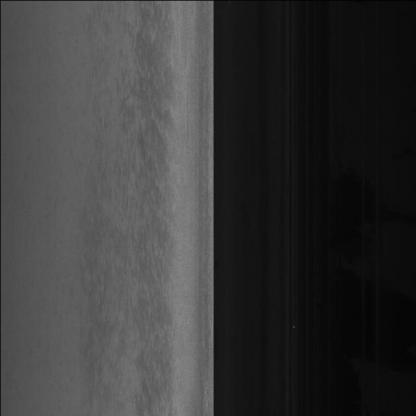silk_spot: (127, 69, 180, 303)
